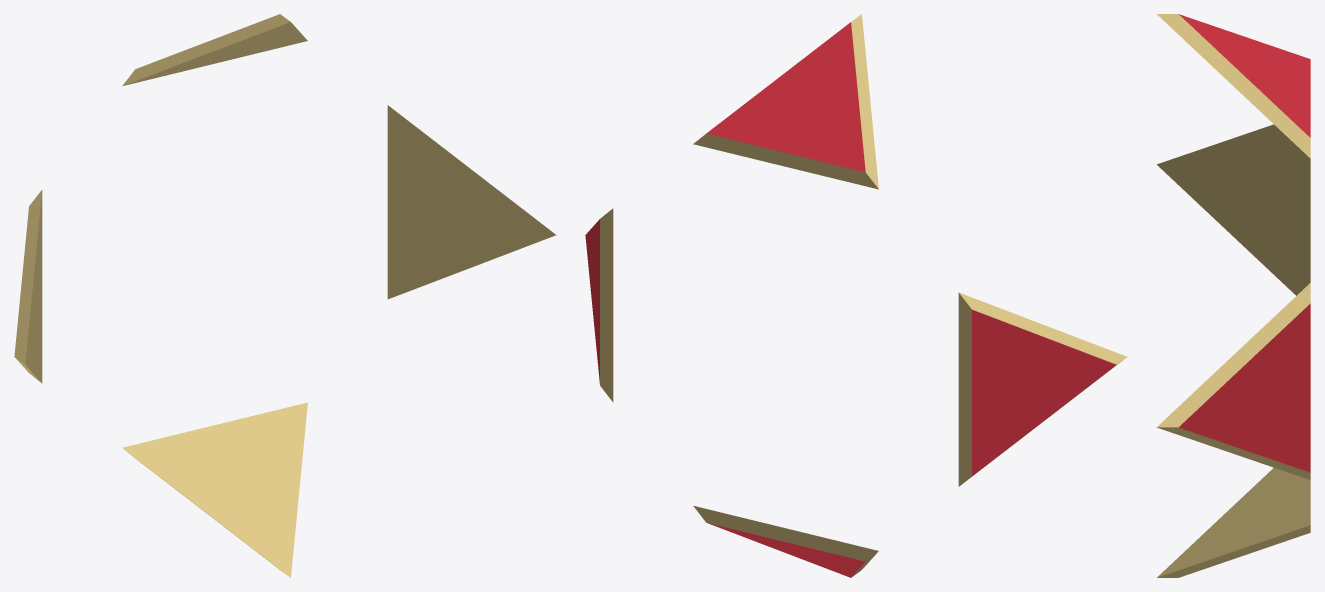
Rendered from IrisBotTriangles.fbx.
3 renders of one model, left to right at view 1: azimuth 30°, elevation 25°; view 2: azimuth 150°, elevation 25°; view 3: azimuth 270°, elevation 25°, orthographic.
Visible parts, largest first — view 1: RightTriangle, BottomTriangle, TopTriangle, LeftTriangle; view 2: LeftTriangle, TopTriangle, BottomTriangle, RightTriangle; view 3: RightTriangle, LeftTriangle, TopTriangle, BottomTriangle.
Part boxes in pixels (x1,y1,x2,y2): RightTriangle: [387, 105, 556, 299]; BottomTriangle: [122, 402, 307, 577]; TopTriangle: [122, 14, 307, 85]; LeftTriangle: [14, 189, 42, 383]; LeftTriangle: [958, 292, 1127, 486]; TopTriangle: [693, 14, 878, 189]; BottomTriangle: [693, 506, 878, 577]; RightTriangle: [585, 208, 613, 402]; RightTriangle: [1156, 283, 1310, 479]; LeftTriangle: [1156, 124, 1310, 295]; TopTriangle: [1157, 14, 1310, 158]; BottomTriangle: [1157, 468, 1310, 577].
Bounding box in the file's own units: 1.41 × 1.41 × 0.35.
